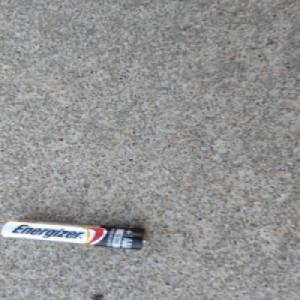Battery: (0, 219, 147, 251)
